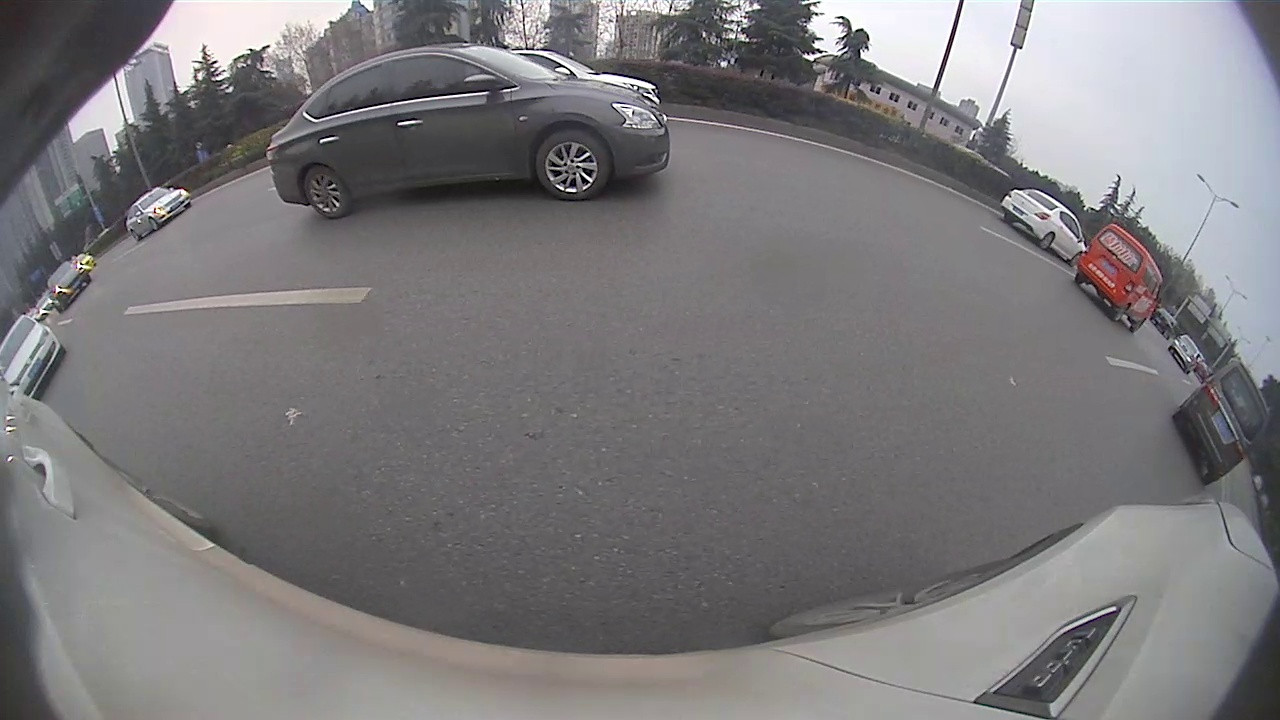car: (266, 41, 671, 220), (1170, 358, 1272, 486), (1076, 220, 1163, 331), (1003, 187, 1087, 267), (1, 314, 63, 398), (121, 185, 193, 240), (1169, 333, 1204, 375)
front: (535, 128, 613, 201)
rear: (302, 165, 348, 220), (1107, 301, 1129, 323), (1037, 231, 1058, 252)
